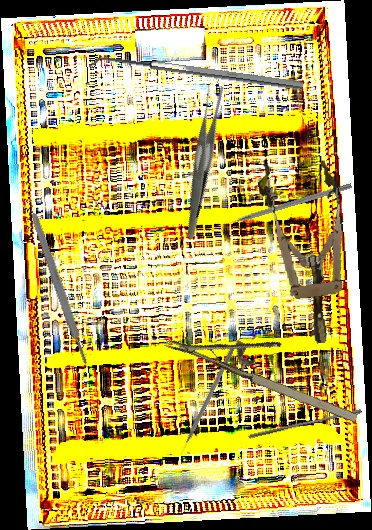Dressing Forceps: (140, 80, 263, 240)
Hook Surgical: (177, 345, 235, 457), (219, 181, 353, 228)
Needle Holder: (164, 299, 372, 430)
Pusher: (247, 405, 363, 443)
Scalpel Handle: (29, 210, 90, 367)
Spatula Surgical: (89, 52, 304, 99)
Speculum: (255, 154, 360, 349)
